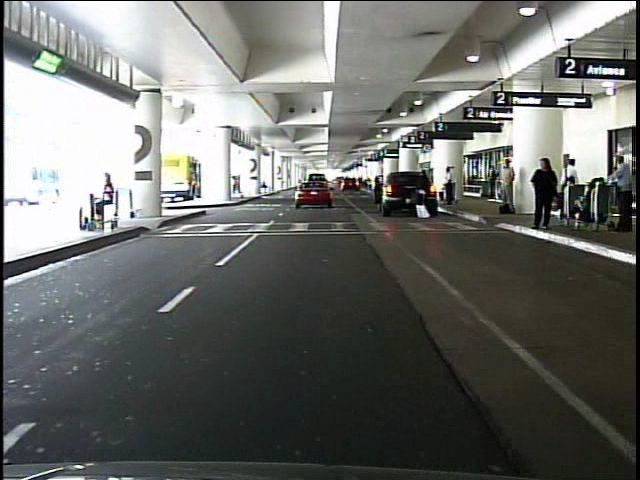person: (605, 151, 631, 235), (530, 155, 556, 233), (92, 170, 117, 224), (560, 157, 579, 211), (417, 167, 433, 221), (443, 166, 457, 208), (486, 161, 498, 200)
